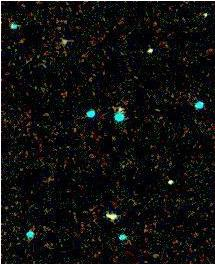star: (93, 202, 123, 232)
